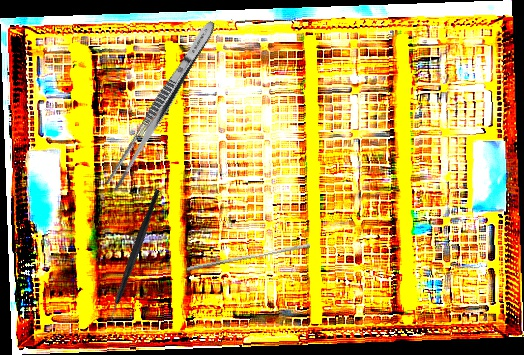Chopper: (69, 188, 203, 330)
Dressing Forceps: (104, 17, 220, 193)
Pusher: (186, 239, 311, 276)
